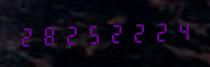eight: (39, 22, 60, 48)
five: (83, 20, 104, 47)
four: (171, 17, 192, 43)
two: (105, 19, 126, 46), (17, 23, 38, 49), (61, 21, 82, 47), (127, 19, 148, 45), (149, 18, 170, 44)
